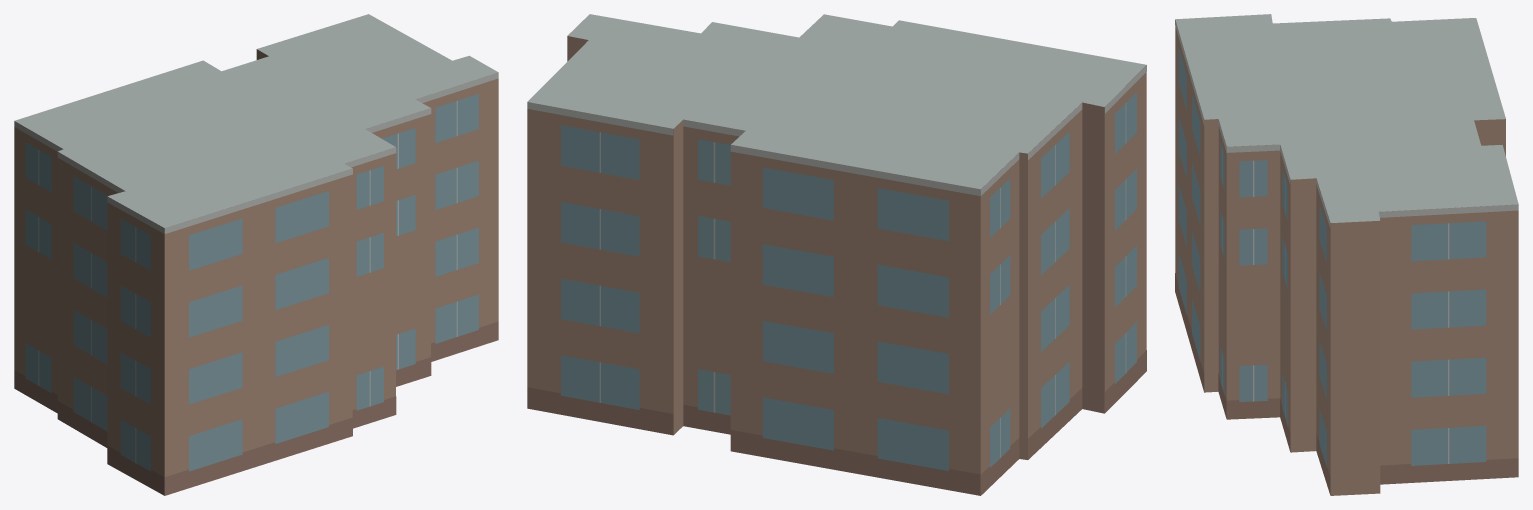
Rendered from survey-upis-32585631.glb.
3 renders of one model, left to right at view 1: azimuth 30°, elevation 25°; view 2: azimuth 150°, elevation 25°; view 3: azimuth 270°, elevation 25°, orthographic. The views are drawn at different scales.
Visible parts, largest first — view 1: survey-upis-32585631.tmp; view 2: survey-upis-32585631.tmp; view 3: survey-upis-32585631.tmp.
Boxes of the visible parts, bbox=[...] form: survey-upis-32585631.tmp: bbox=[14, 14, 498, 495]; survey-upis-32585631.tmp: bbox=[527, 14, 1146, 495]; survey-upis-32585631.tmp: bbox=[1175, 14, 1518, 495].
Bounding box in the file's own units: 17.93 × 10.9 × 12.45.
